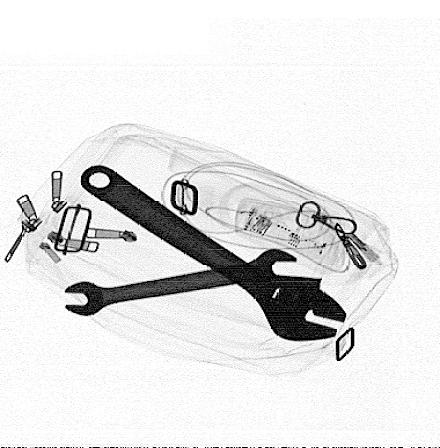Wrench: (80, 164, 348, 342), (63, 248, 298, 316)
